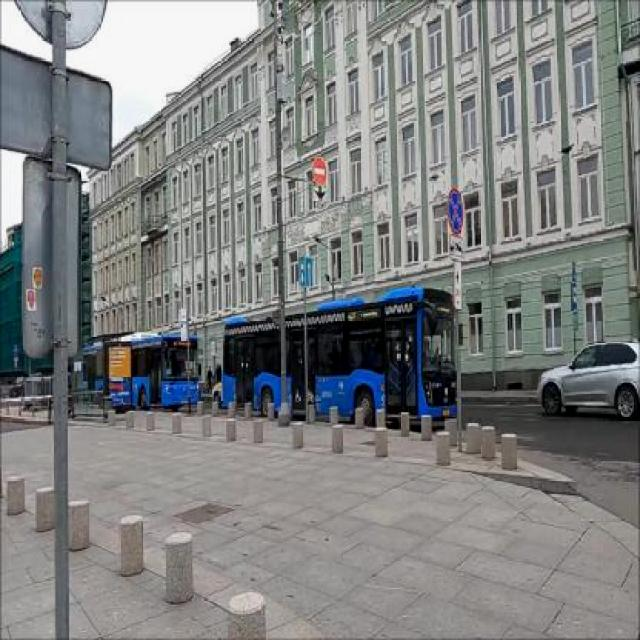bus: (221, 291, 463, 419), (84, 332, 202, 406)
